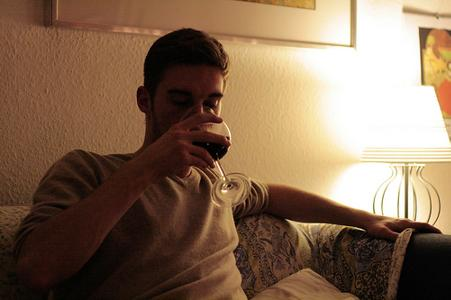person: (14, 26, 442, 300)
